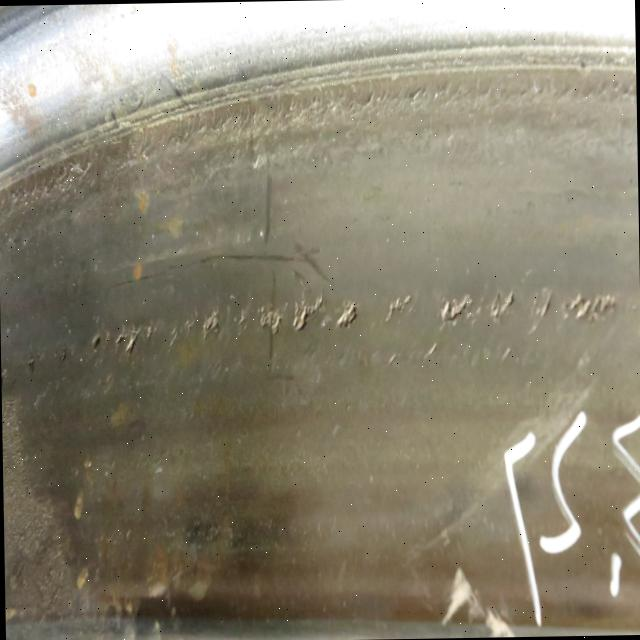Peeling: (564, 293, 616, 320), (294, 296, 325, 331), (117, 326, 153, 353), (492, 290, 516, 323), (442, 297, 470, 323), (389, 294, 413, 322), (536, 289, 554, 322), (337, 303, 358, 327), (203, 311, 221, 338), (260, 312, 281, 335), (92, 333, 101, 350), (239, 311, 247, 325)
